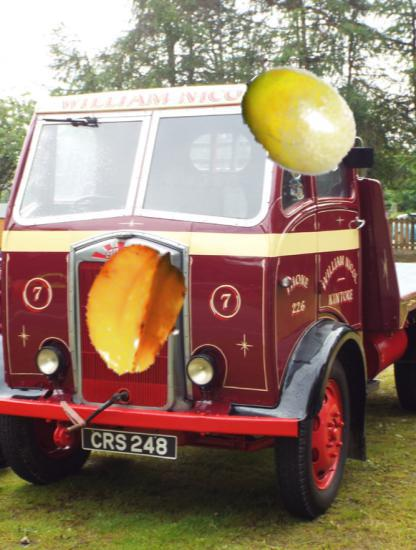Carambula: (68, 243, 203, 378)
Maracuja: (236, 59, 361, 184)
